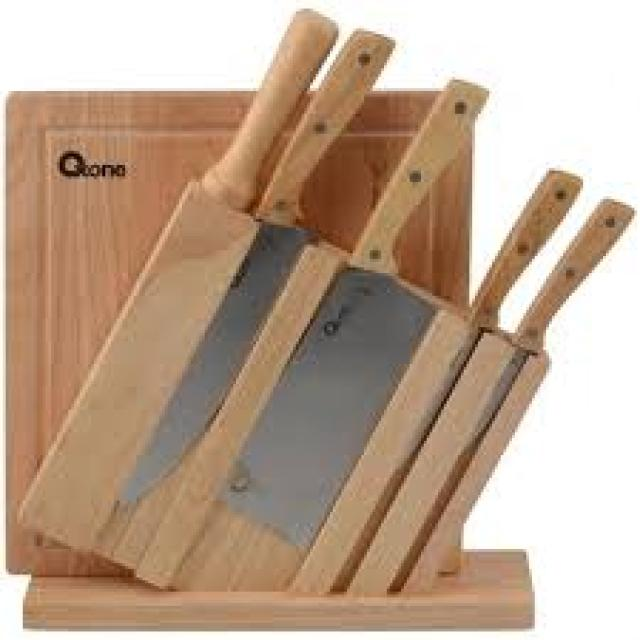Knife: (131, 3, 528, 600)
